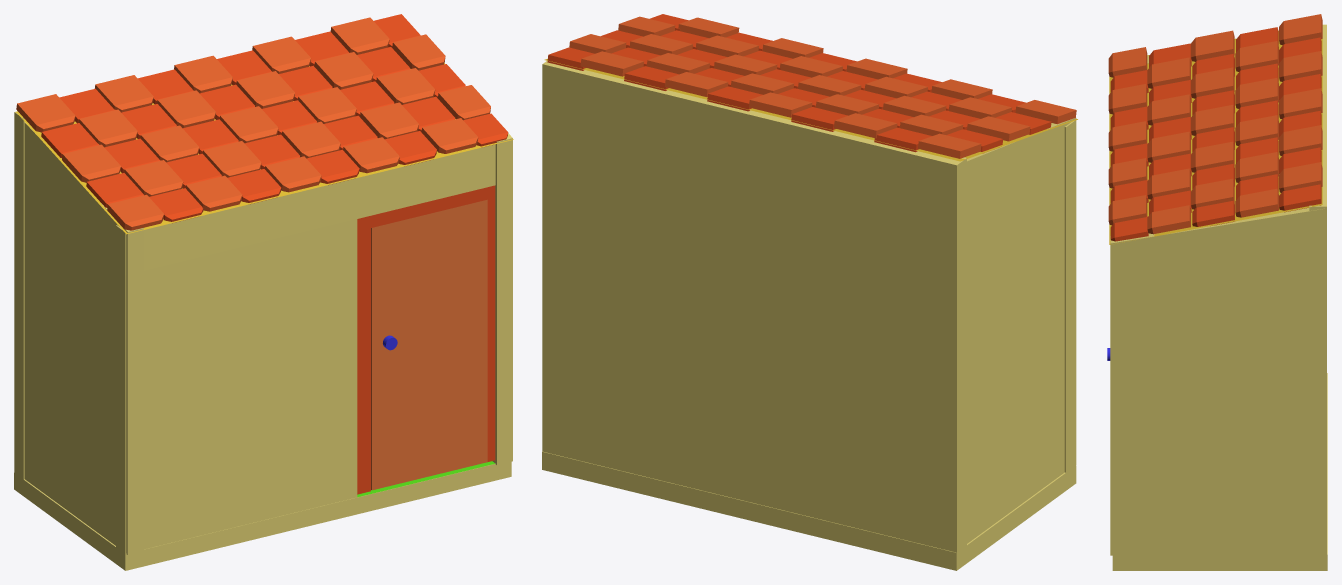
File: ToolShed.fbx
The picture shows the model from 3 angles, left to right: view 1: azimuth 30°, elevation 25°; view 2: azimuth 150°, elevation 25°; view 3: azimuth 270°, elevation 25°; orthographic projection. The views are drawn at different scales.
Visible parts, largest first — view 1: house wall, roof, door; view 2: house wall, roof; view 3: house wall, roof.
Boxes of the visible parts, left/top/right/bottom form: house wall: left=14, top=111, right=512, bottom=570; roof: left=16, top=14, right=513, bottom=234; door: left=371, top=199, right=487, bottom=490; house wall: left=542, top=61, right=1076, bottom=570; roof: left=544, top=14, right=1077, bottom=161; house wall: left=1110, top=24, right=1327, bottom=570; roof: left=1108, top=14, right=1322, bottom=244.
Bounding box in the file's own units: 306 × 293 × 156.
